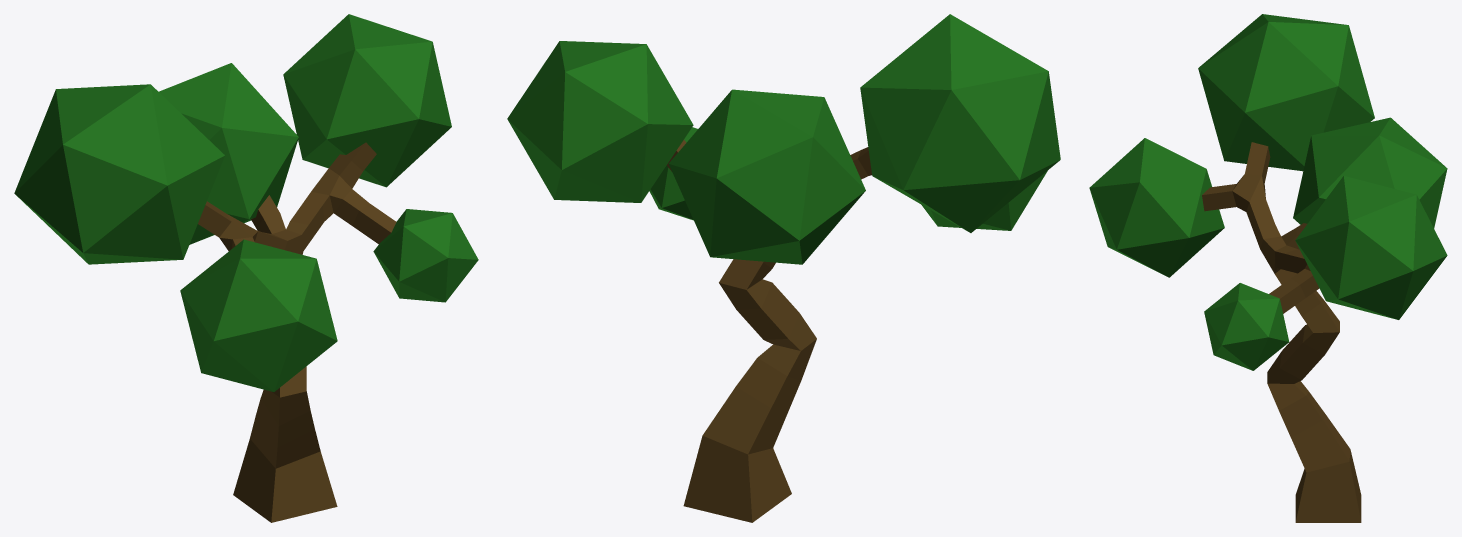
File: Tree_LowPoly_1-4.fbx
The picture shows the model from 3 angles, left to right: view 1: azimuth 30°, elevation 25°; view 2: azimuth 150°, elevation 25°; view 3: azimuth 270°, elevation 25°; orthographic projection. The views are drawn at different scales.
Visible parts, largest first — view 1: Tree_LowPoly_1-4; view 2: Tree_LowPoly_1-4; view 3: Tree_LowPoly_1-4.
Part boxes in pixels (box(x1,y1,x2,y2)): Tree_LowPoly_1-4: box(14, 14, 478, 522); Tree_LowPoly_1-4: box(507, 14, 1060, 522); Tree_LowPoly_1-4: box(1089, 14, 1447, 522).
Size of the model in its own units: 829 by 863 by 673.
